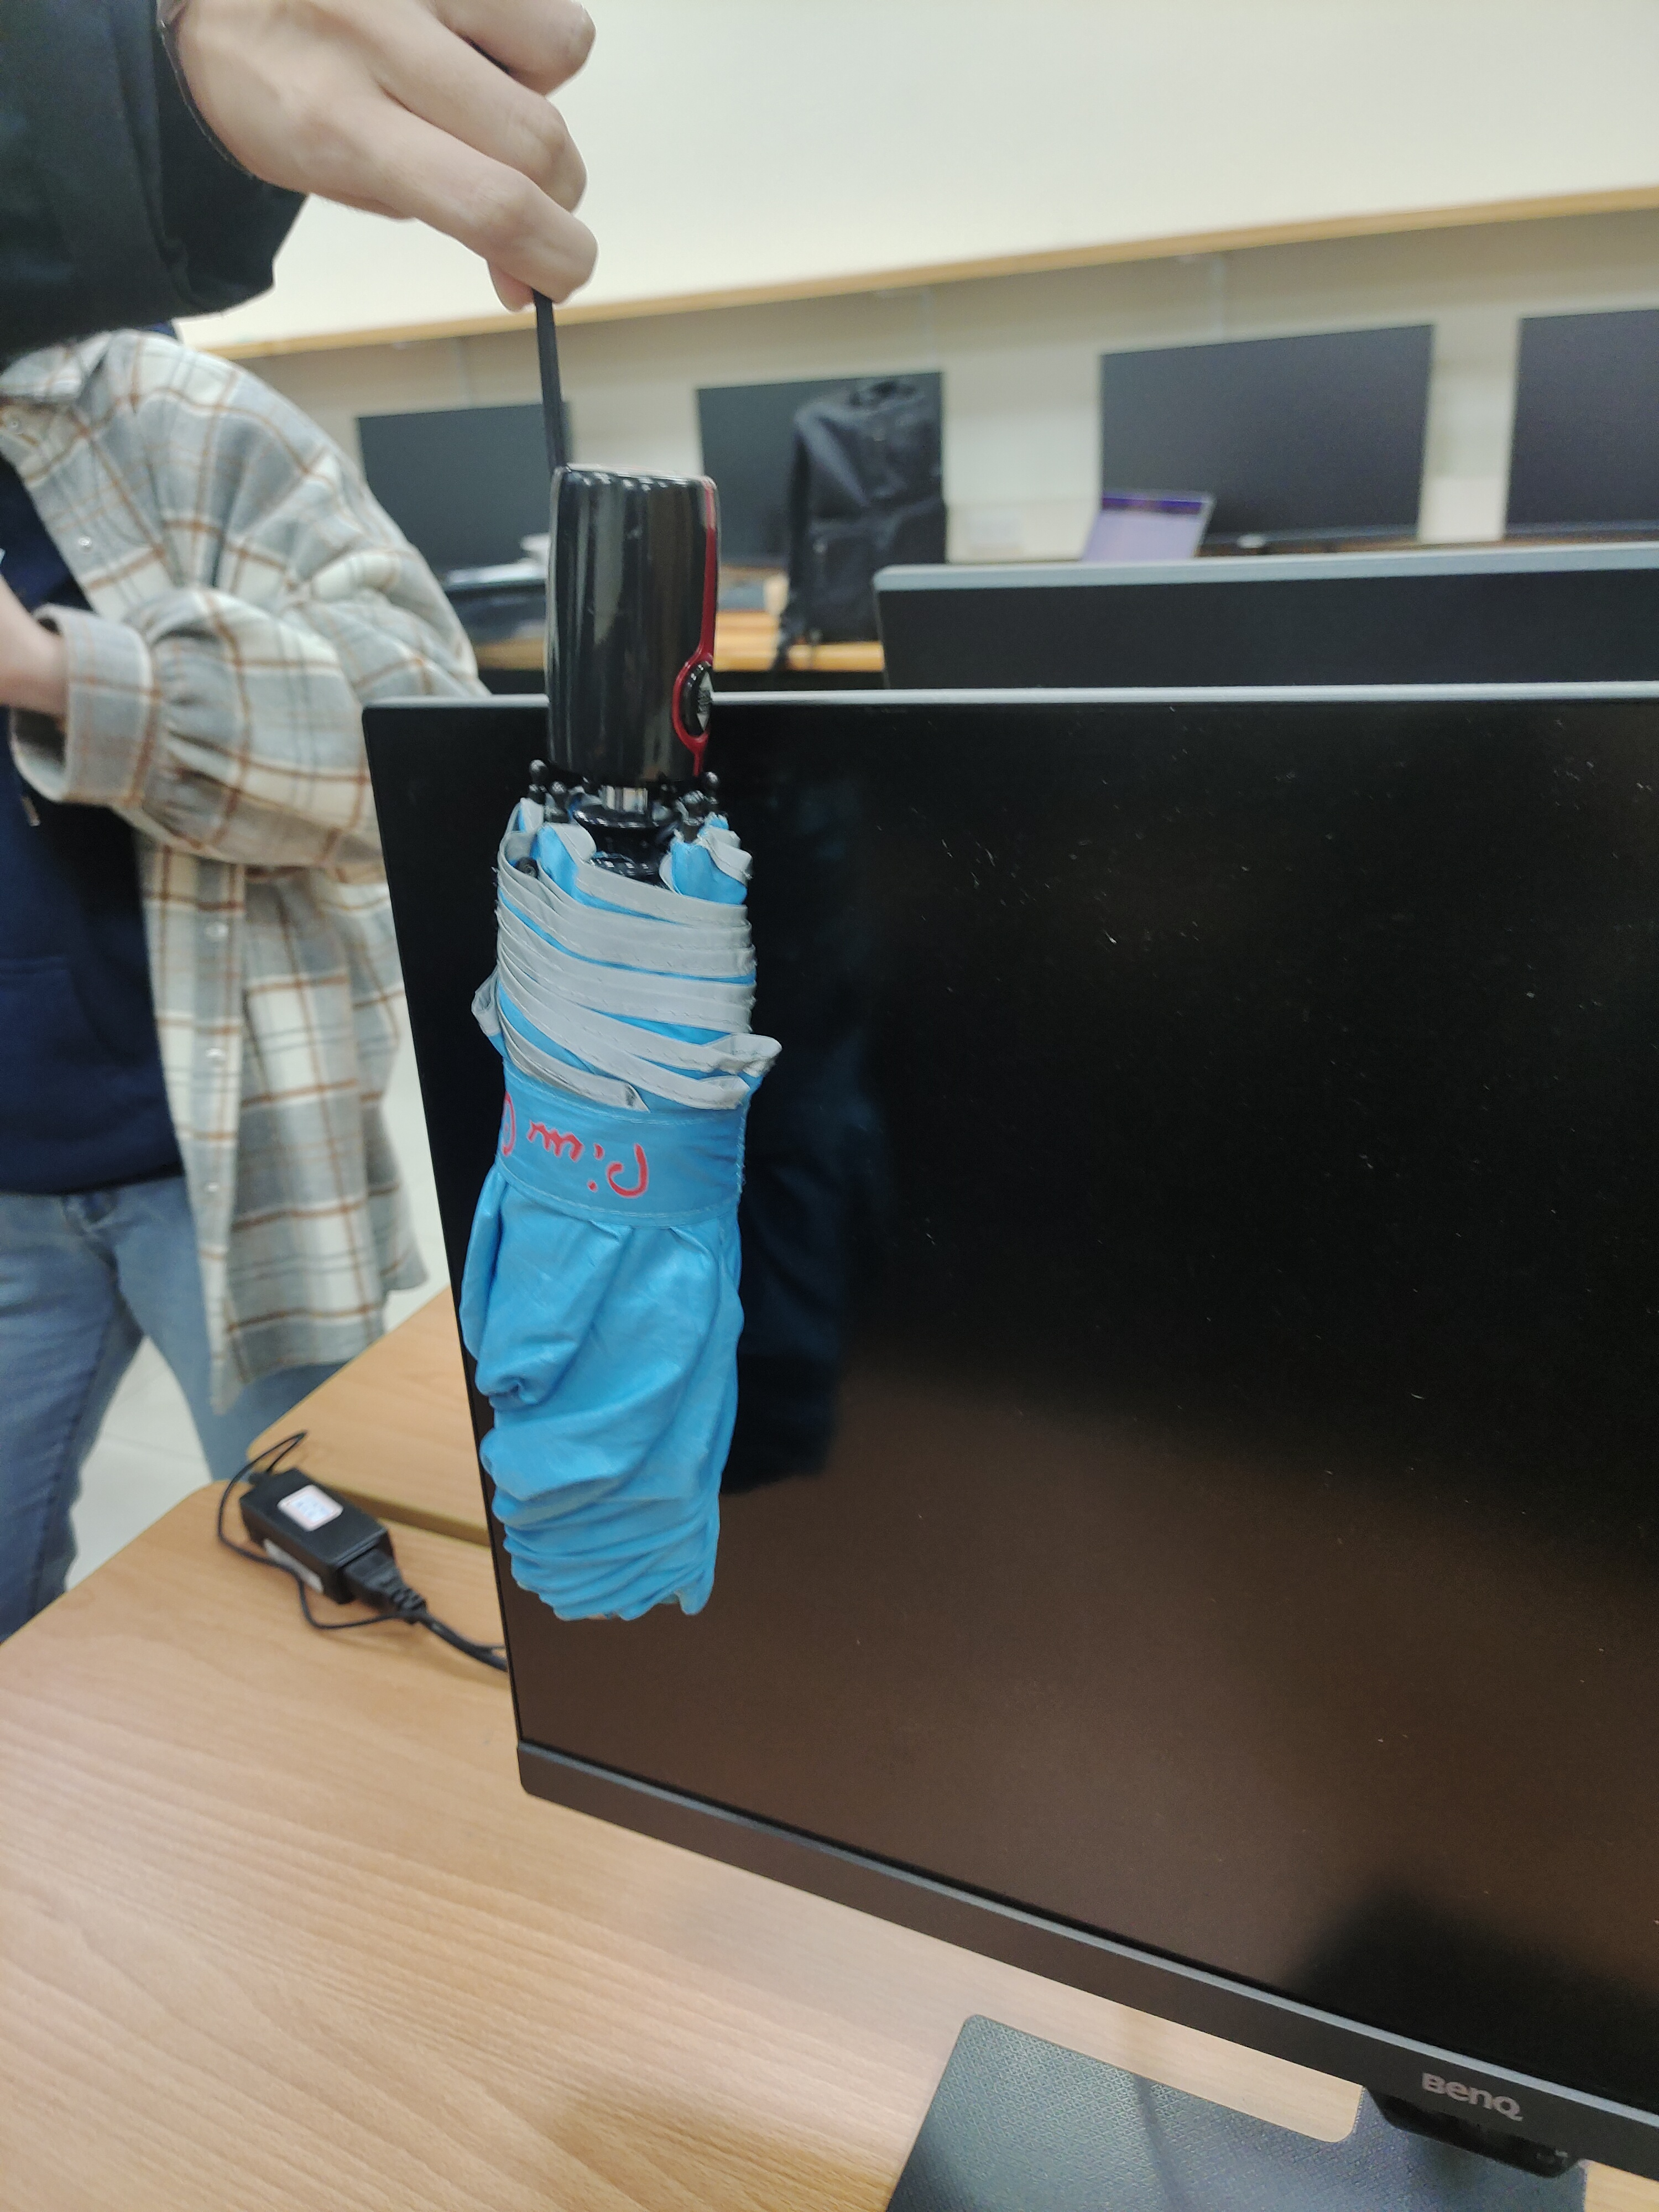Umbrella: (434, 423, 814, 1642)
